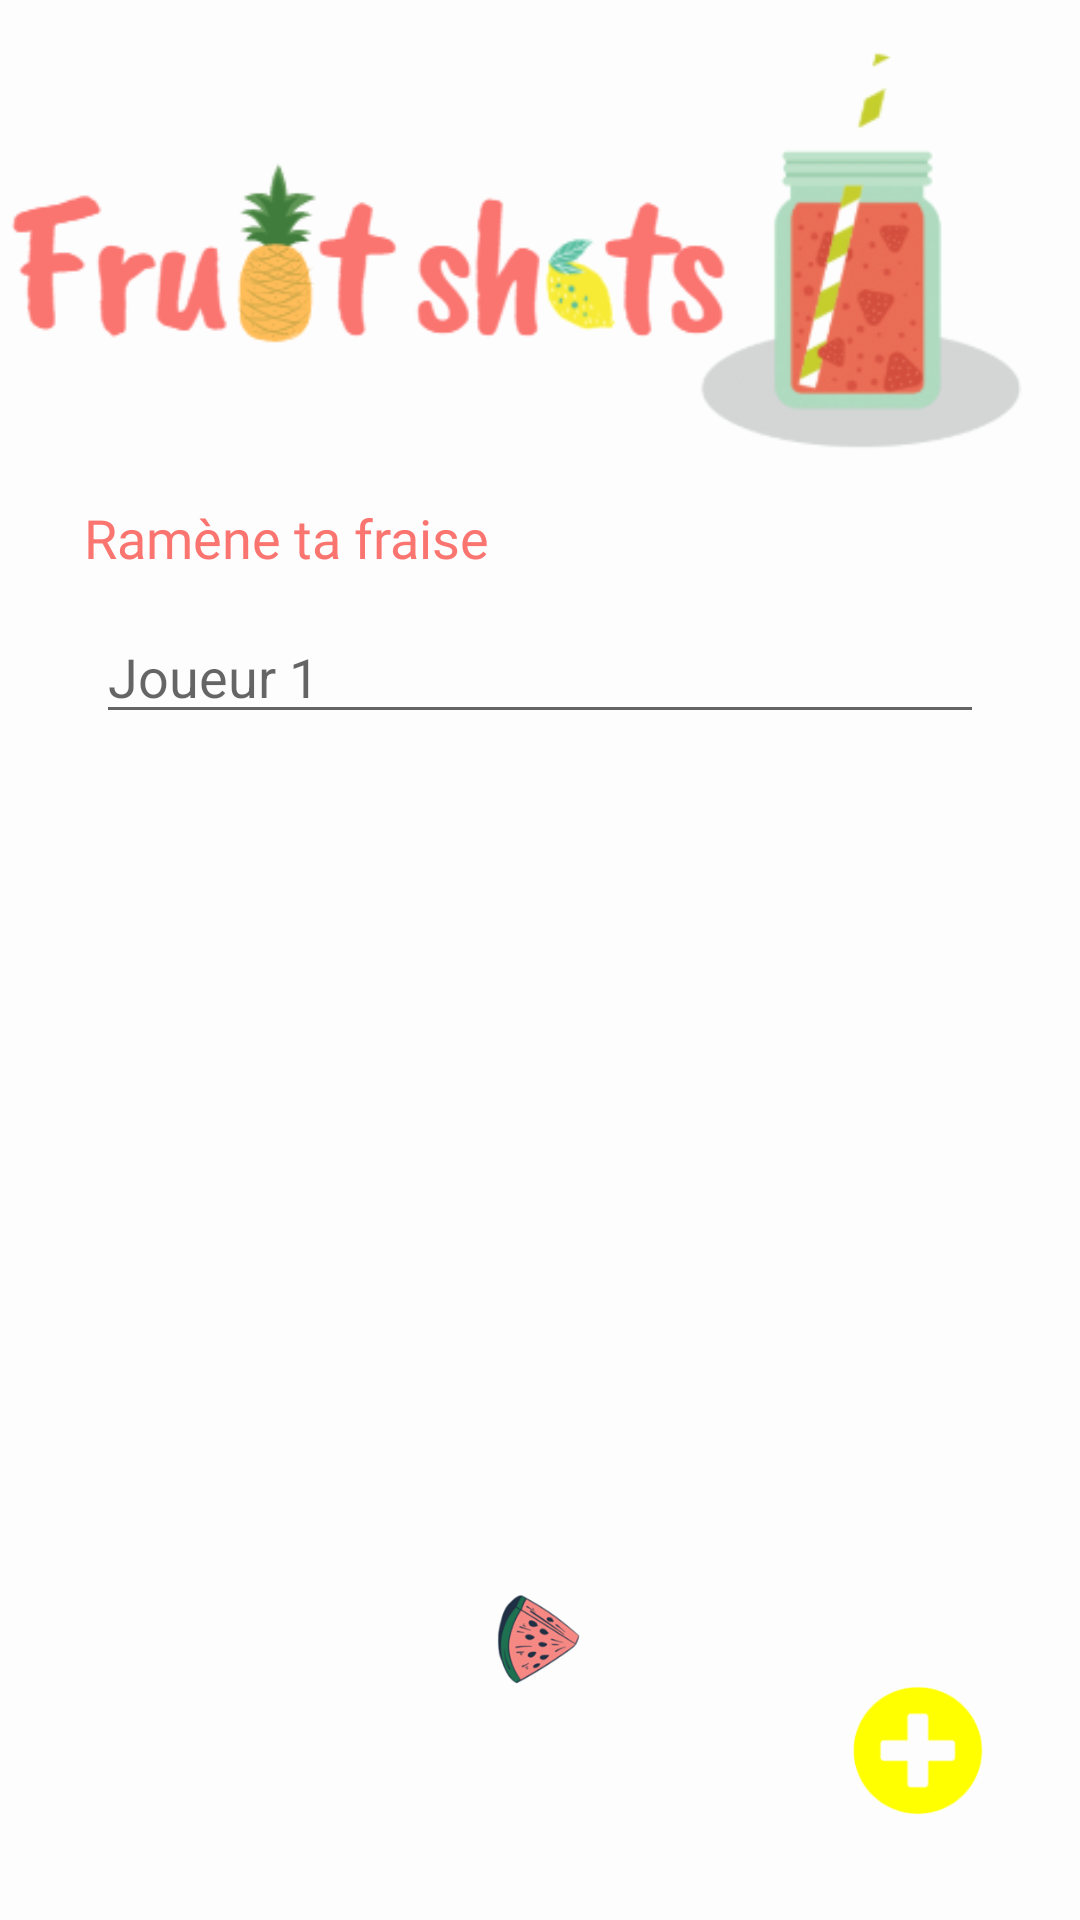

Icon click points for this 1080px×1920px phone screenshot, format [x,y]:
plus: [918,1750]
